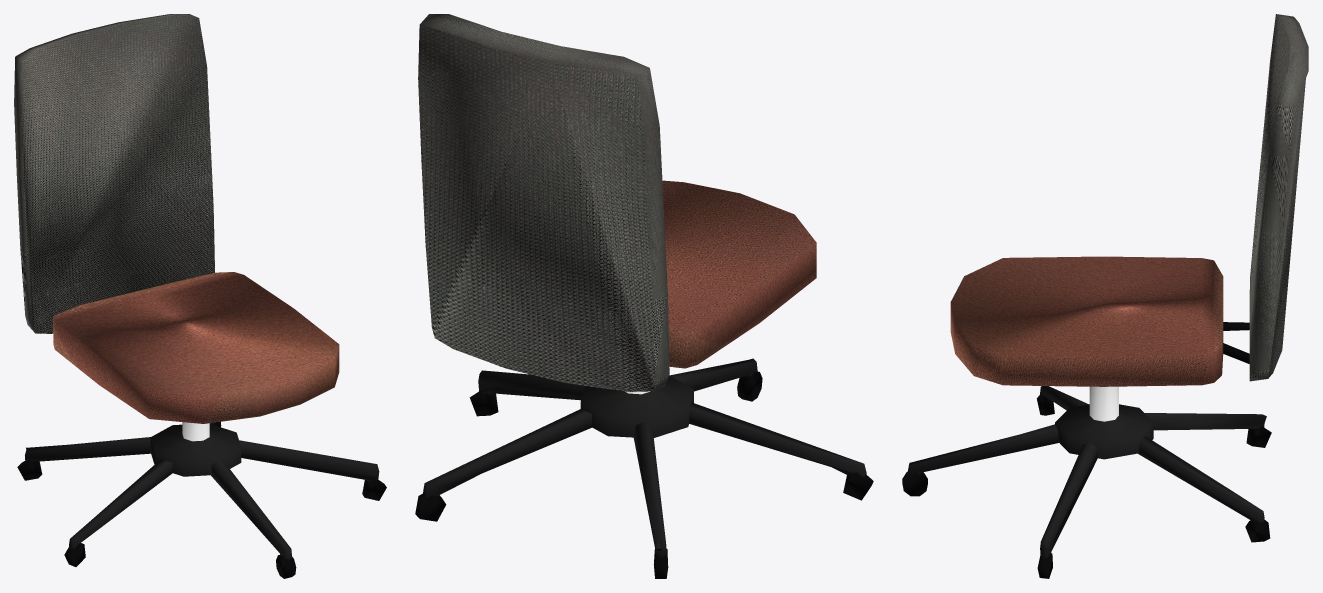
File: cadeira lab games.fbx
The picture shows the model from 3 angles, left to right: view 1: azimuth 30°, elevation 25°; view 2: azimuth 150°, elevation 25°; view 3: azimuth 270°, elevation 25°; orthographic projection. The views are drawn at different scales.
Parts seen in each view (by area): view 1: cadeira parte de baixo.001; view 2: cadeira parte de baixo.001; view 3: cadeira parte de baixo.001.
Part boxes in pixels (x1=…): cadeira parte de baixo.001: x1=14, y1=14, x2=386, y2=578; cadeira parte de baixo.001: x1=415, y1=14, x2=873, y2=578; cadeira parte de baixo.001: x1=902, y1=14, x2=1308, y2=578.
Bounding box in the file's own units: 0.4891 × 0.6173 × 0.5105.
7 materials, 2 textured.
